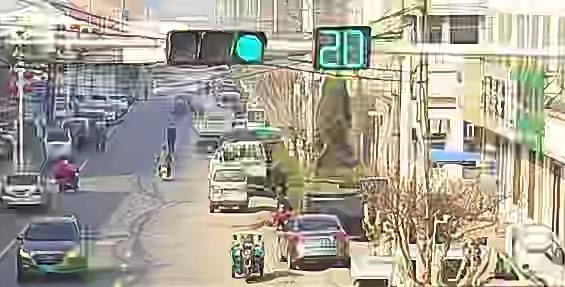green: (231, 31, 263, 63)
greentime: (318, 28, 369, 68)
